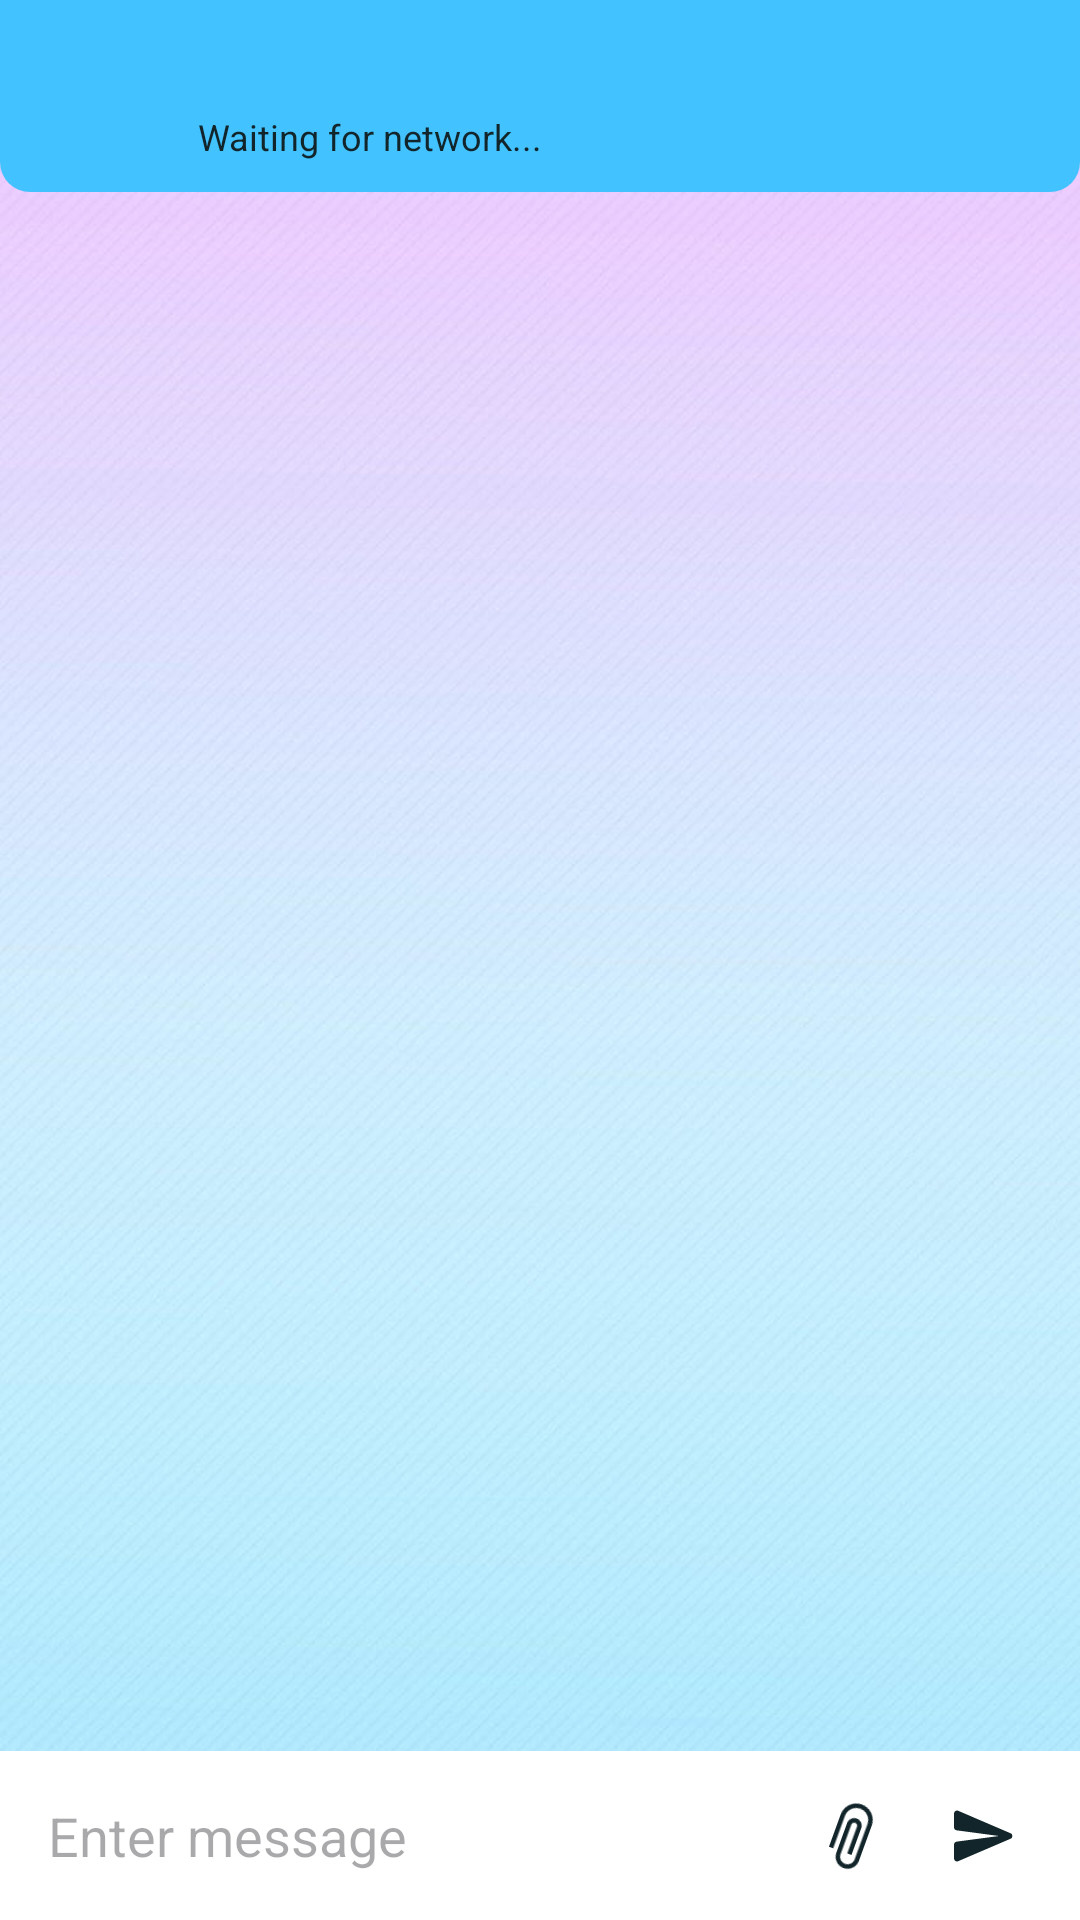

Screen size 1080*1920. Icon name, then its box in pixels as detection(x1, y1, x2, y2):
send: detection(954, 1810, 1013, 1862)
